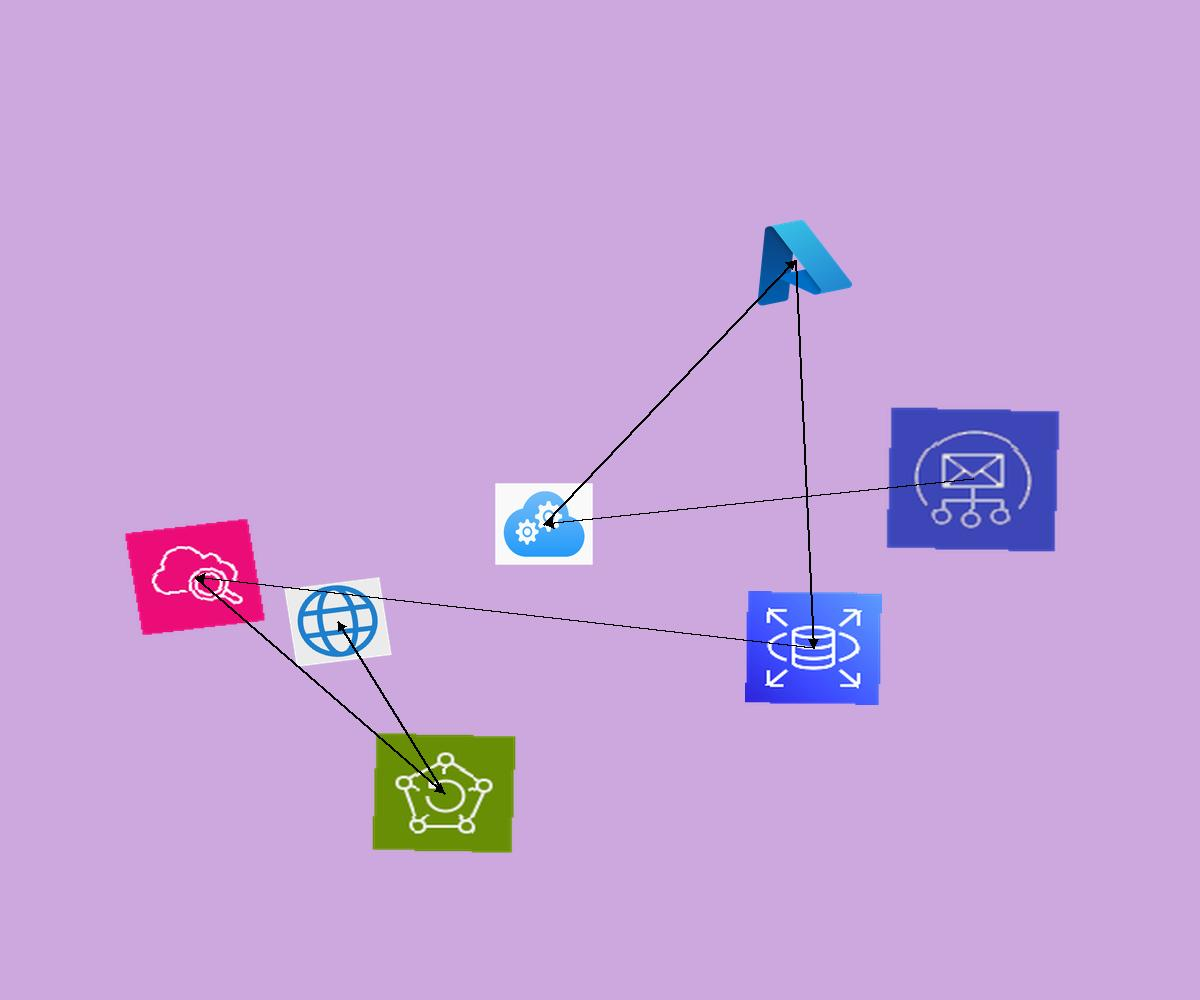AWS-Backup: (371, 732, 517, 854)
AWS-CloudWatch: (124, 518, 266, 636)
AWS-RDS: (745, 591, 882, 705)
AWS-Simple-Email-Service: (885, 406, 1061, 553)
Azure_cloud_services: (495, 483, 593, 565)
Azure_http: (284, 577, 392, 667)
Azure_services: (731, 207, 859, 313)
